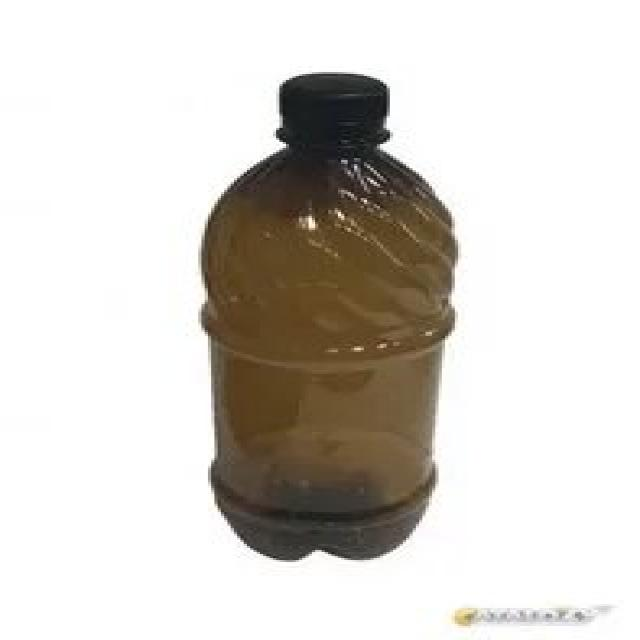brown: (198, 130, 458, 562)
